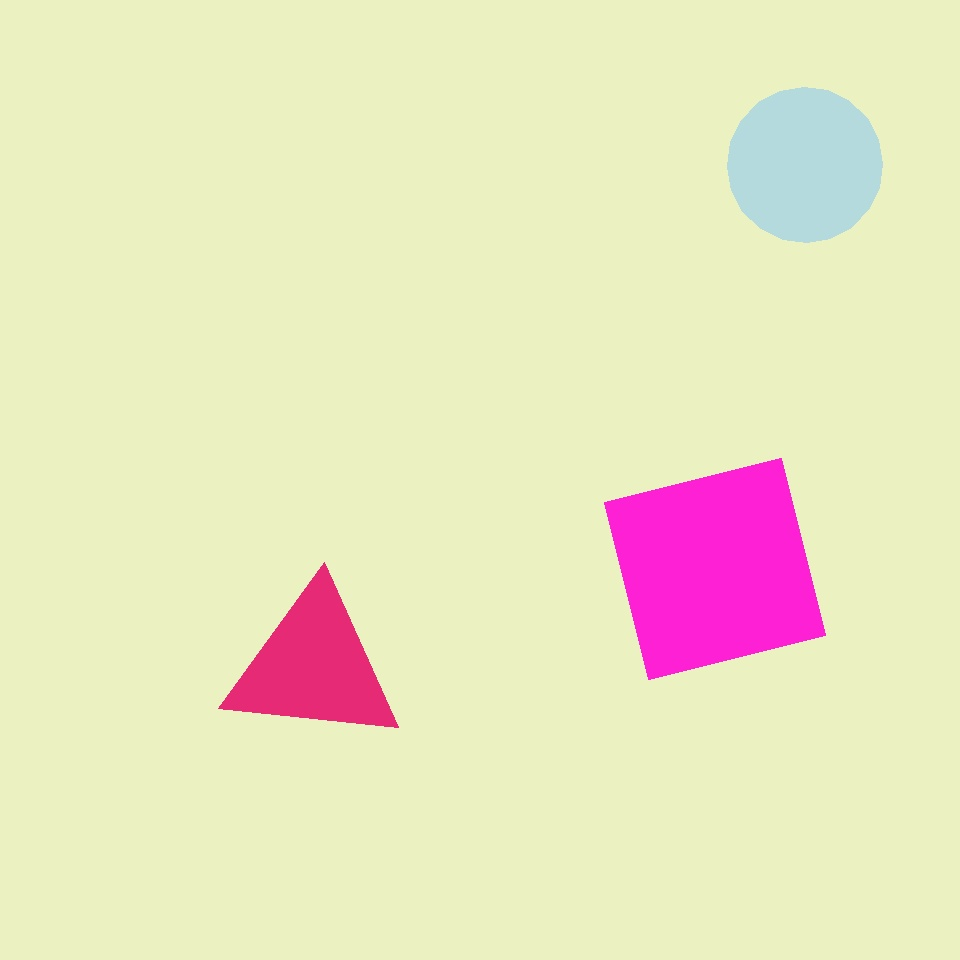circle: (339, 381, 587, 610), (418, 681, 642, 932), (224, 584, 404, 748), (553, 391, 630, 473)
square: (441, 312, 738, 610), (320, 43, 590, 314), (604, 458, 826, 680), (686, 76, 811, 201), (615, 642, 729, 756)
triangle: (279, 673, 527, 921), (535, 162, 775, 402), (631, 443, 832, 644), (728, 88, 882, 243)
